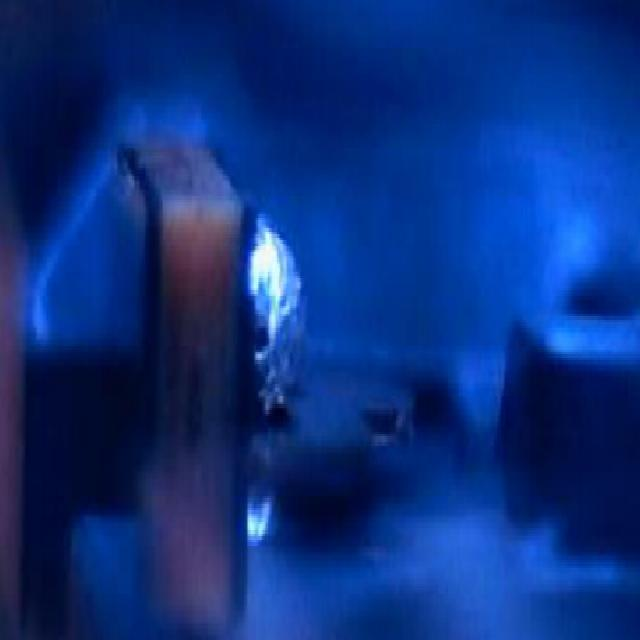No Good: (232, 190, 323, 451)
